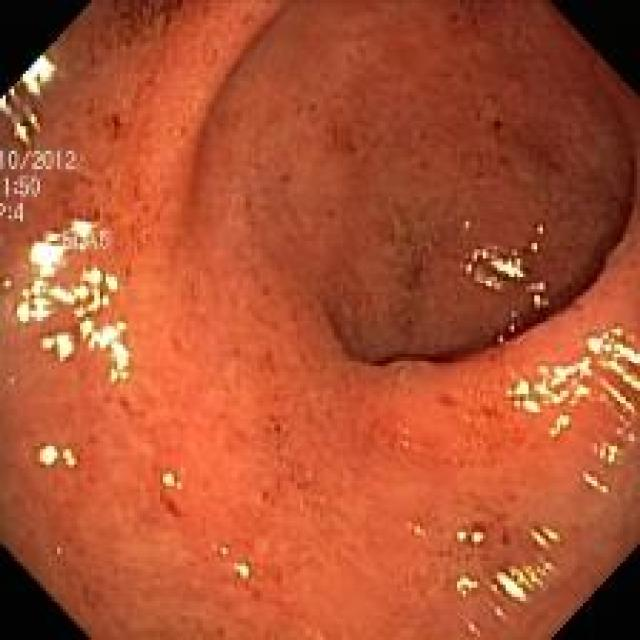ulcerative-colitis-grade-1: (0, 3, 640, 638)
